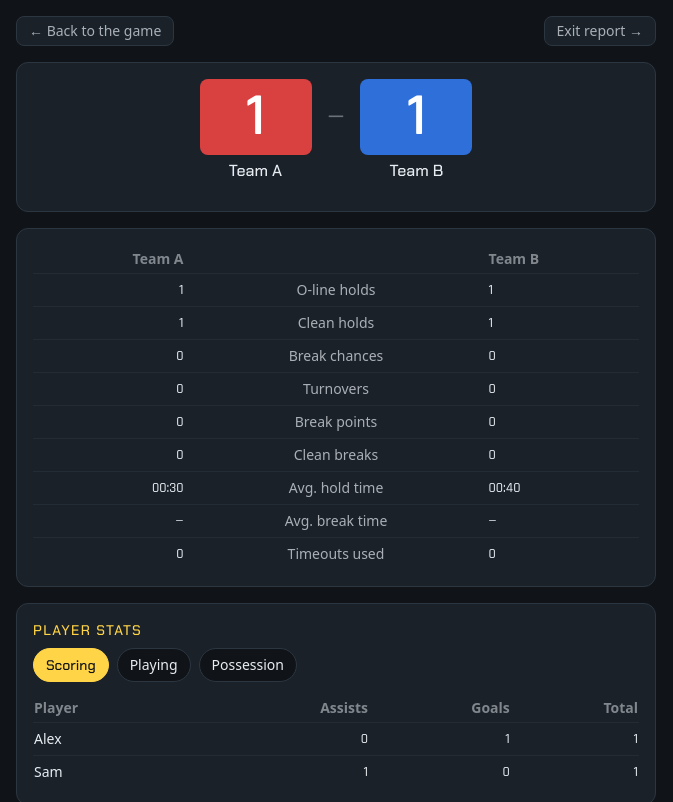
Test: the player-stat views › switches to the possession columns
Click the button "Possession".
click(248, 665)  # box [199,648,297,682]
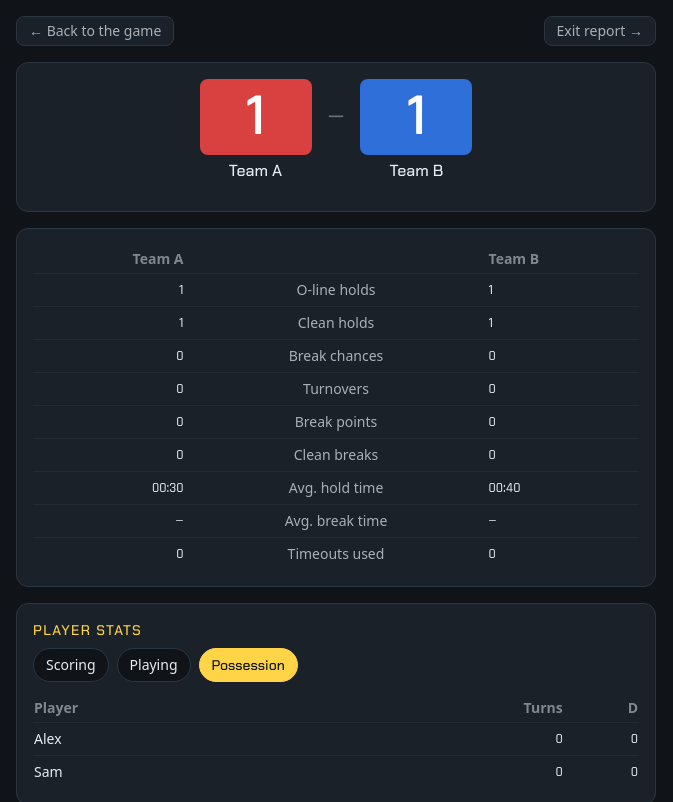
Expected: the column heading "Turns" is shown, [314,694,564,722]
